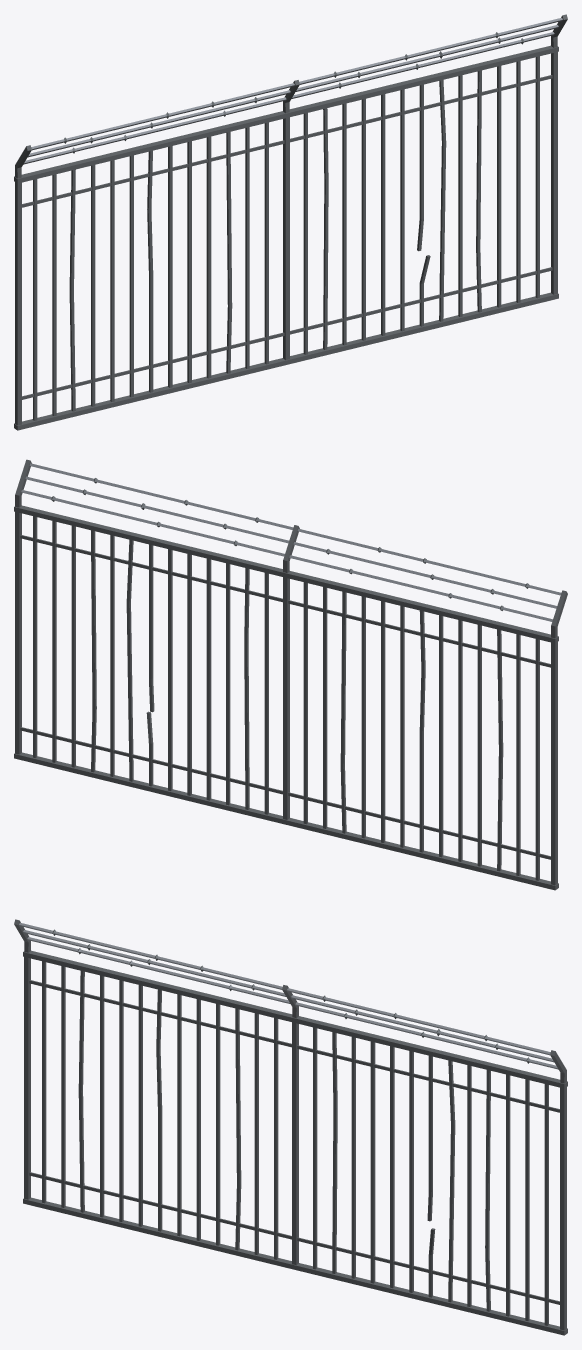
The model's file is Fence_02.fbx.
The picture shows the model from 3 angles, top to bottom: view 1: azimuth 30°, elevation 25°; view 2: azimuth 150°, elevation 25°; view 3: azimuth 330°, elevation 25°; orthographic projection.
Visible parts, largest first — view 1: Fence_02; view 2: Fence_02; view 3: Fence_02.
Part boxes in pixels (x1=…): Fence_02: x1=14, y1=14, x2=567, y2=430; Fence_02: x1=14, y1=459, x2=567, y2=890; Fence_02: x1=14, y1=919, x2=567, y2=1335.
Size of the model in its own units: 500 by 256 by 21.43.
